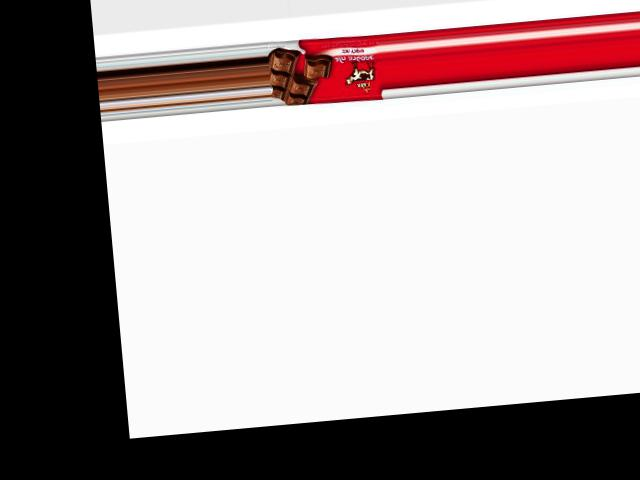chocolate: (268, 33, 384, 108)
